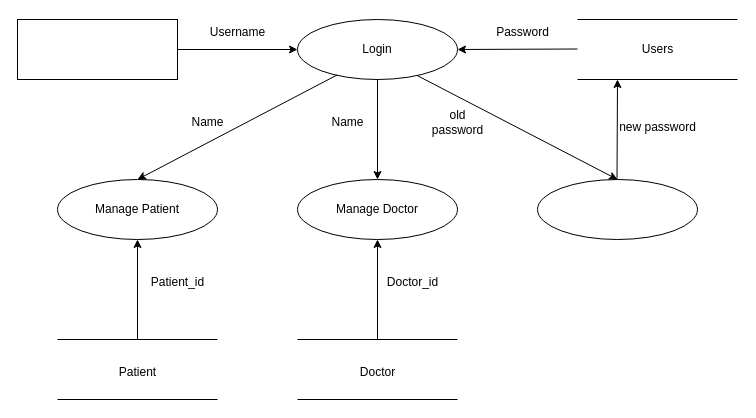
The diagram is 756 pixels wide and 418 high, and some of its shapes have lost their labels. The centre of each missing label's shape, as x and y in pixels:
Admin: the point at 97,49
Change Password: the point at 617,209
